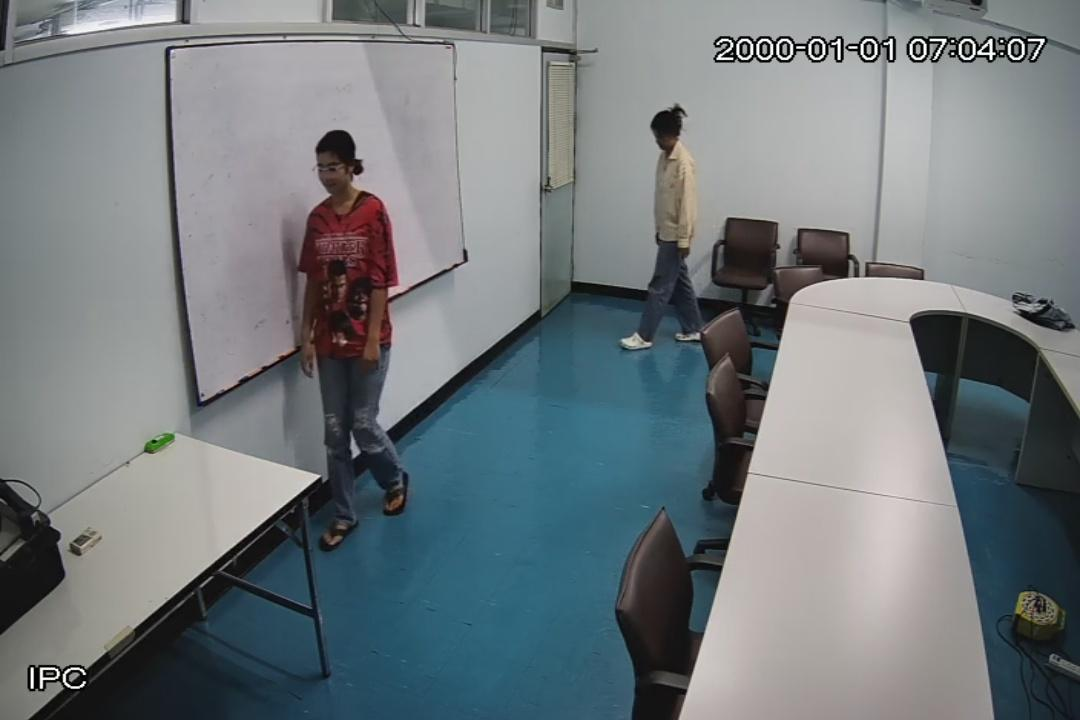normal: (284, 122, 426, 560), (622, 94, 710, 358)
